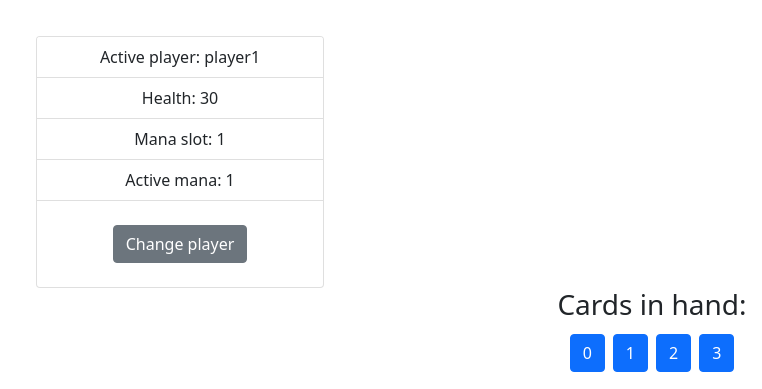
Trading card game › Player won the game › check does player win
Click the button with test id "test1".
click(630, 353)  # box [613,334,648,372]
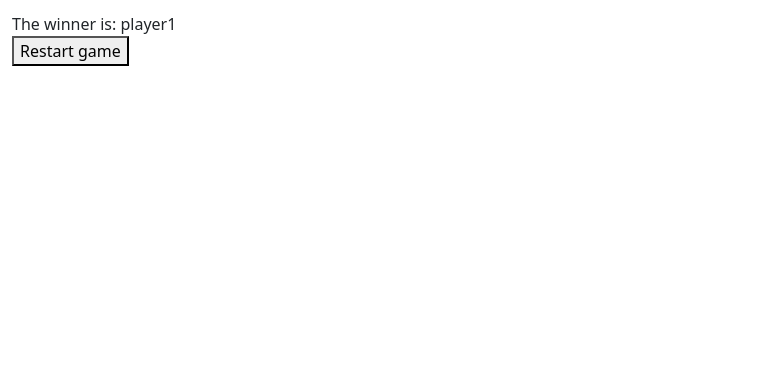
Expected: the text "The winner is: player1" is shown, [12,13,176,35]
